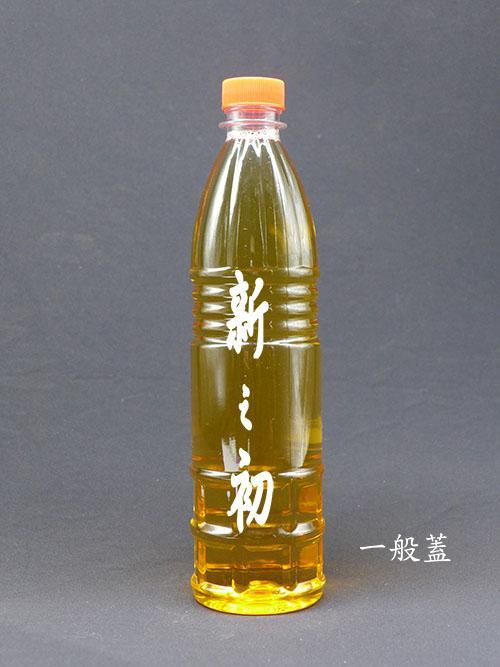bottle: (184, 68, 339, 622)
